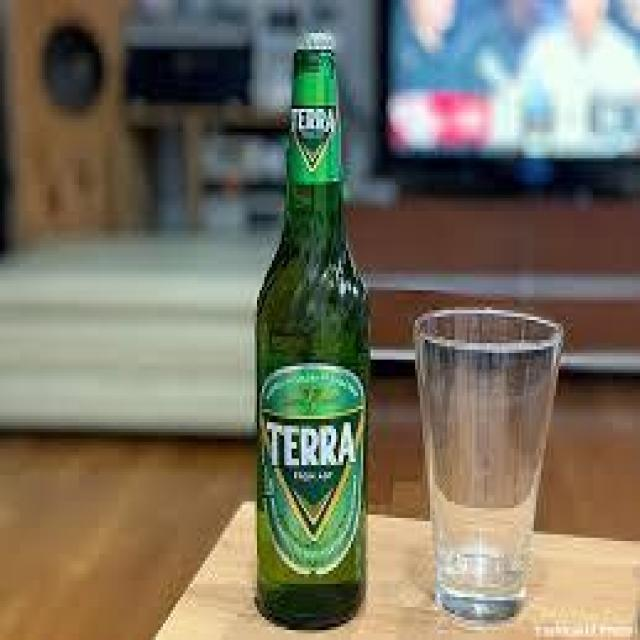beer-bottle: (248, 23, 376, 637)
